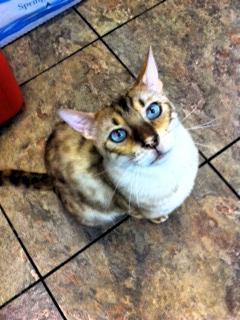bengal: (57, 44, 183, 179)
